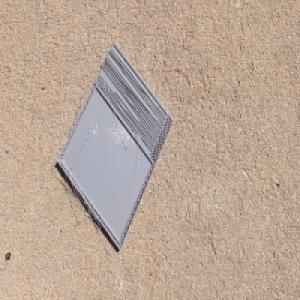PlasticPart: (56, 41, 174, 253)
